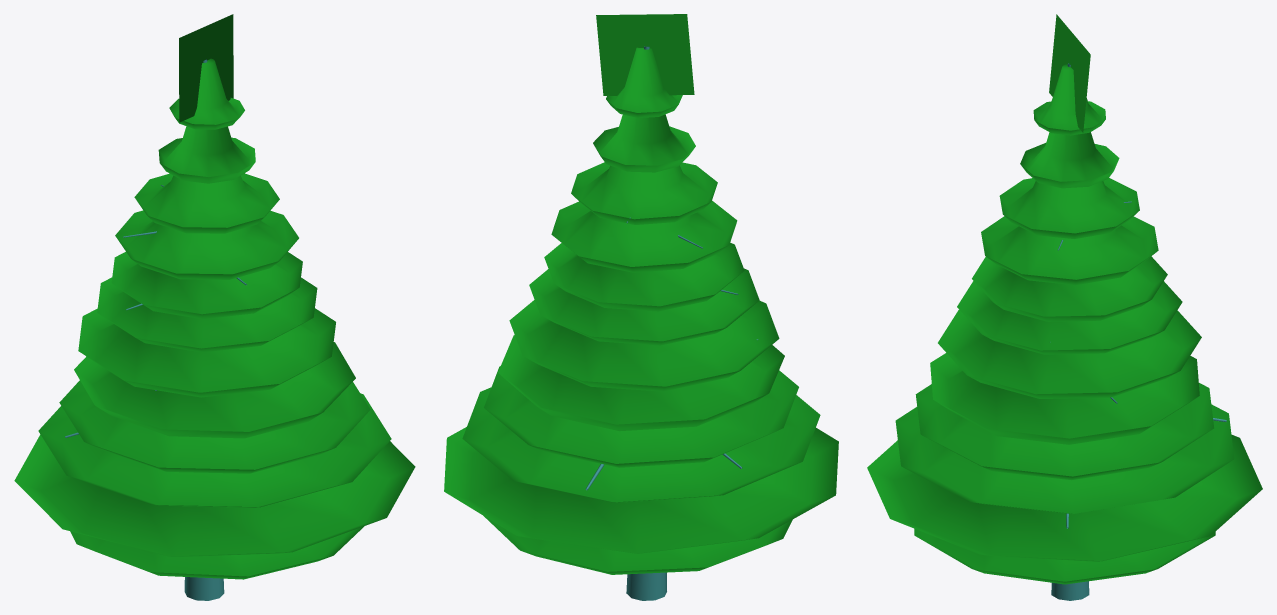
The model's file is furTree_lod0.fbx.
3 renders of one model, left to right at view 1: azimuth 30°, elevation 25°; view 2: azimuth 150°, elevation 25°; view 3: azimuth 270°, elevation 25°, orthographic. The views are drawn at different scales.
Parts seen in each view (by area): view 1: furTree_lod0; view 2: furTree_lod0; view 3: furTree_lod0.
Part boxes in pixels (x1=…): furTree_lod0: x1=14, y1=14, x2=415, y2=600; furTree_lod0: x1=444, y1=14, x2=838, y2=600; furTree_lod0: x1=867, y1=14, x2=1262, y2=600.
Size of the model in its own units: 8951 by 14175 by 9037.
